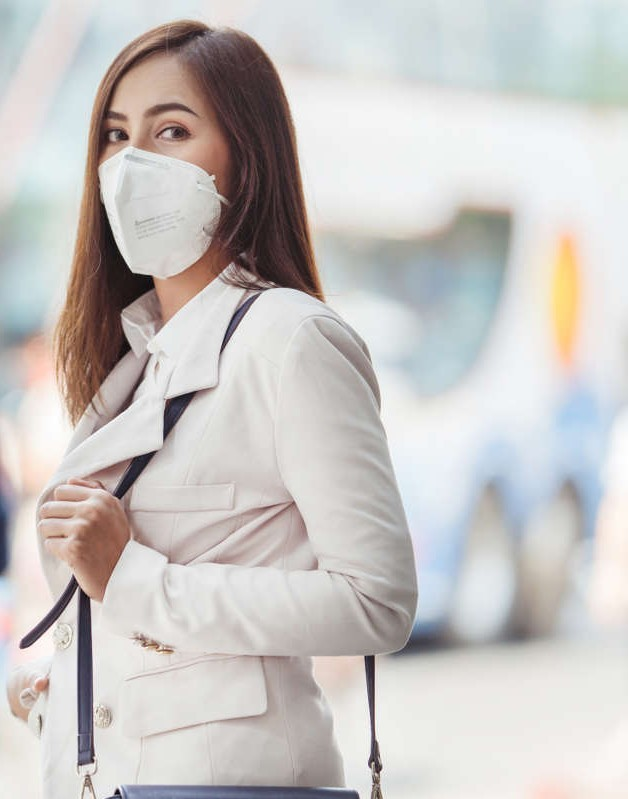with_mask: (91, 56, 244, 284)
